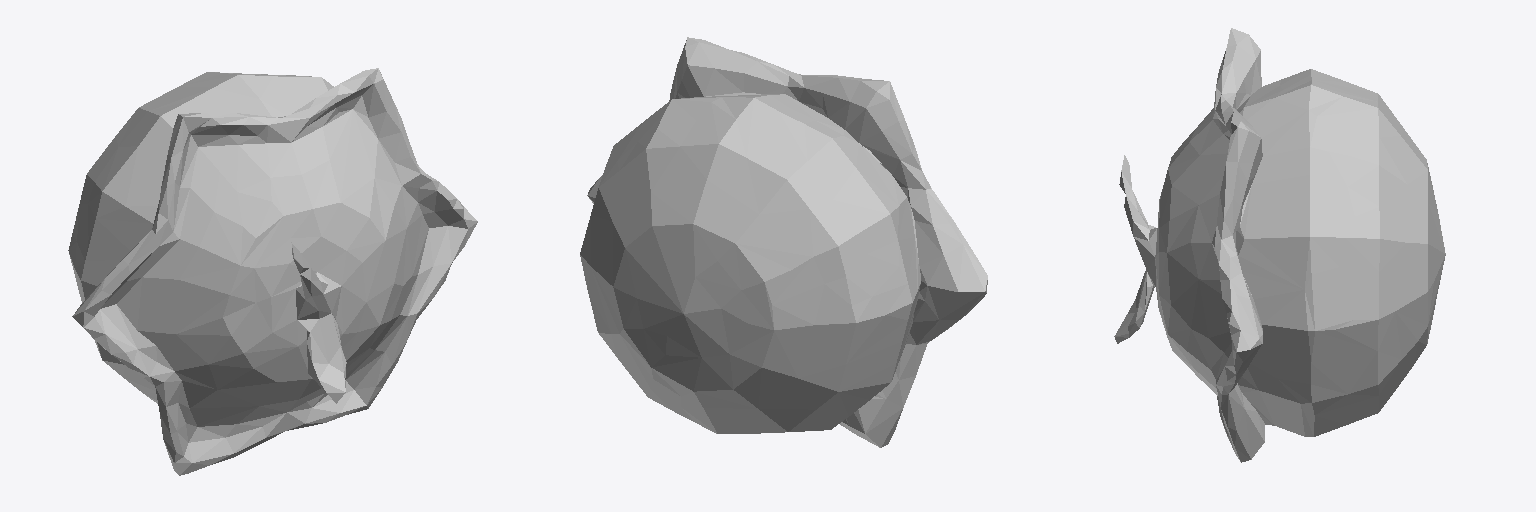
Rendered from model2_corr_open3d.obj.
3 views of the same model, side by side, from view 1: azimuth 30°, elevation 25°; view 2: azimuth 150°, elevation 25°; view 3: azimuth 270°, elevation 25° (orthographic).
Bounding box in the file's own units: 0.05 × 0.0431 × 0.0358.